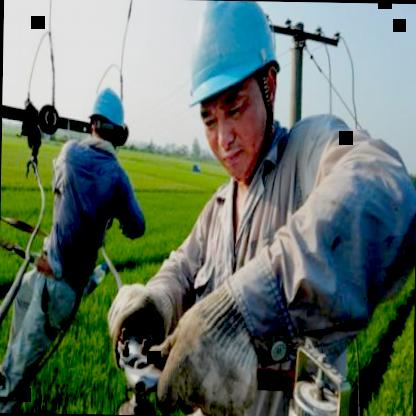helmet: (173, 0, 288, 183), (85, 82, 129, 152)
